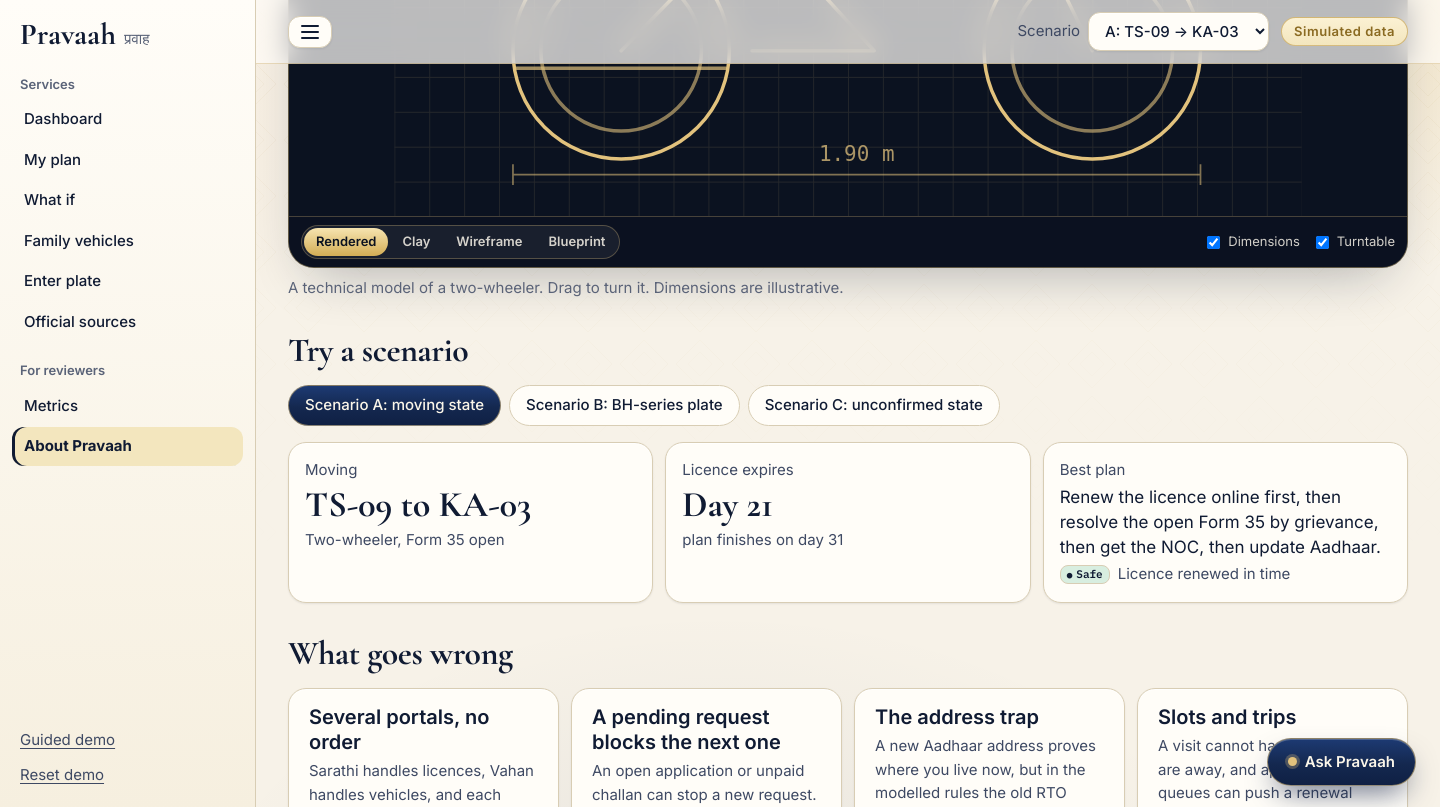
Story page tells only what the engine and data support › shows degraded mode, with no guessed dates, for the unknown state
(page scrolled)
Click the button "Scenario C: unconfirmed state" at (874, 406), box x1=748 y1=385 x2=1000 y2=426
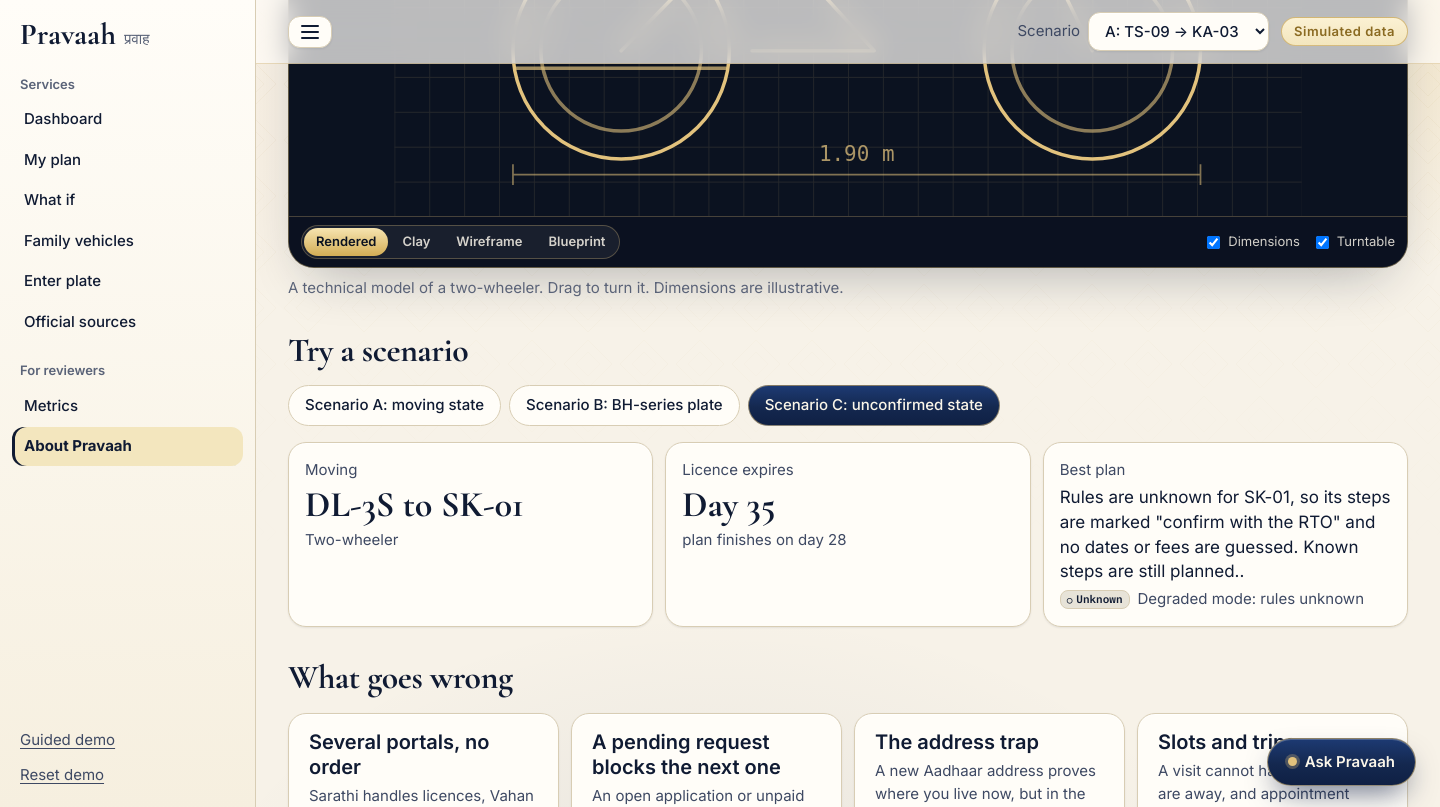
Result: the text "○ Unknown Degraded mode: rules unknown" is shown at x1=1060 y1=588 x2=1391 y2=610
Result: the text "no dates or fees are guessed" is shown at x1=1060 y1=487 x2=1391 y2=581
